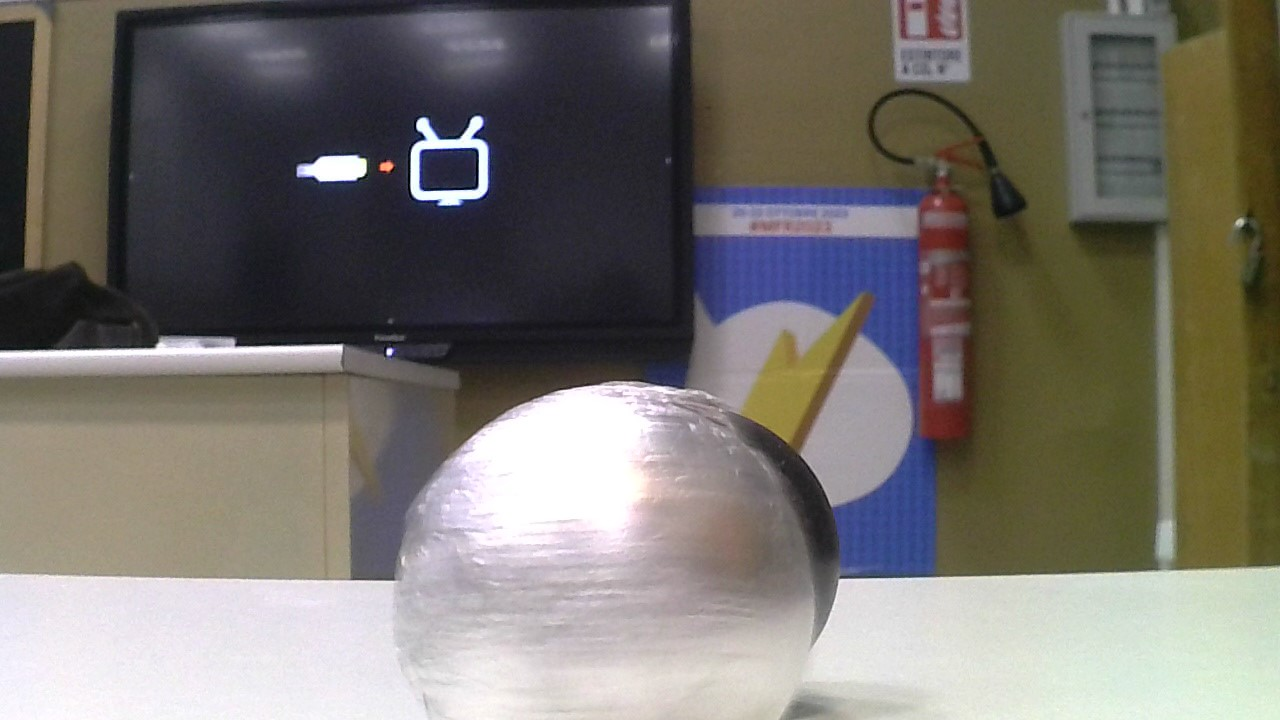silver_ball: (387, 383, 820, 720)
